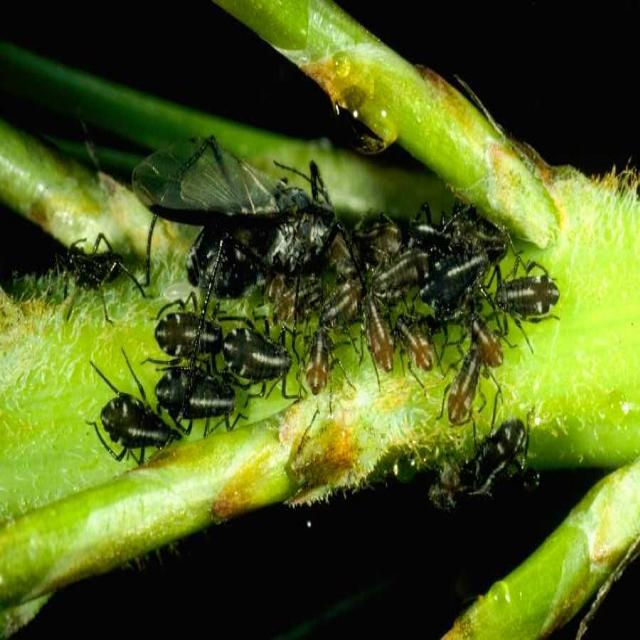Aphid-Grown-: (92, 378, 180, 463), (161, 364, 242, 431), (221, 321, 292, 389), (149, 300, 225, 358), (502, 257, 562, 326), (299, 320, 345, 409), (361, 303, 396, 376)
